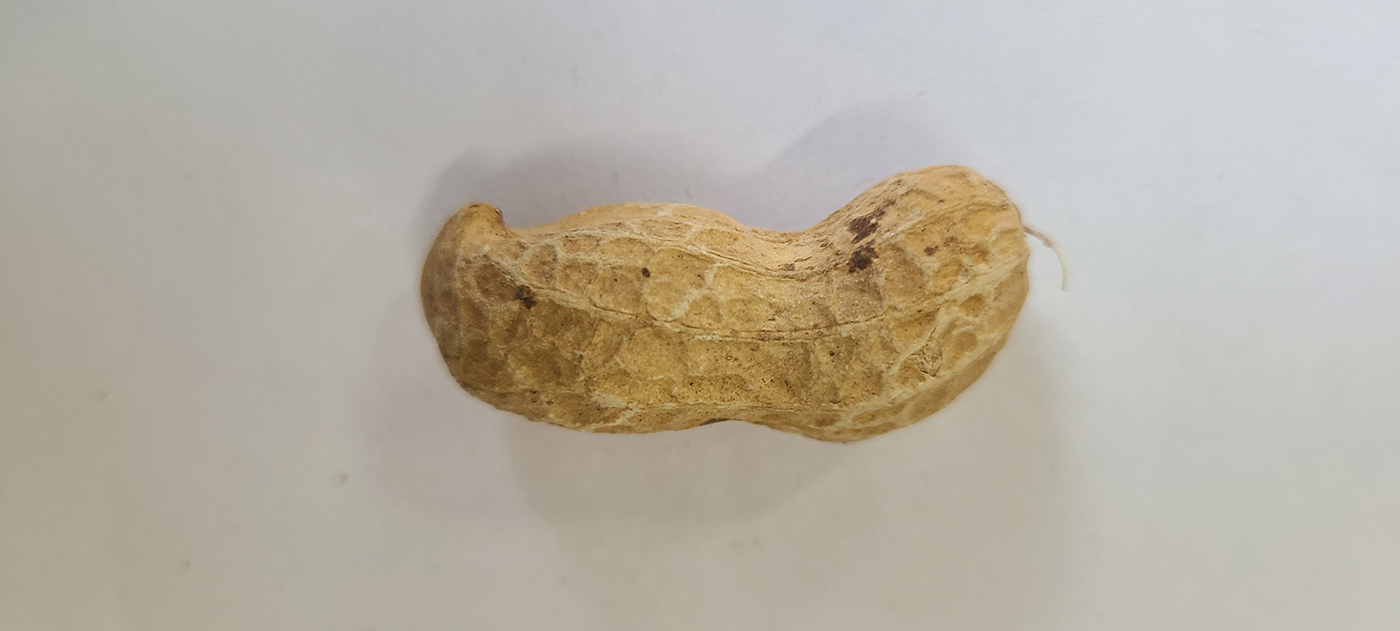h: (419, 162, 1034, 449)
